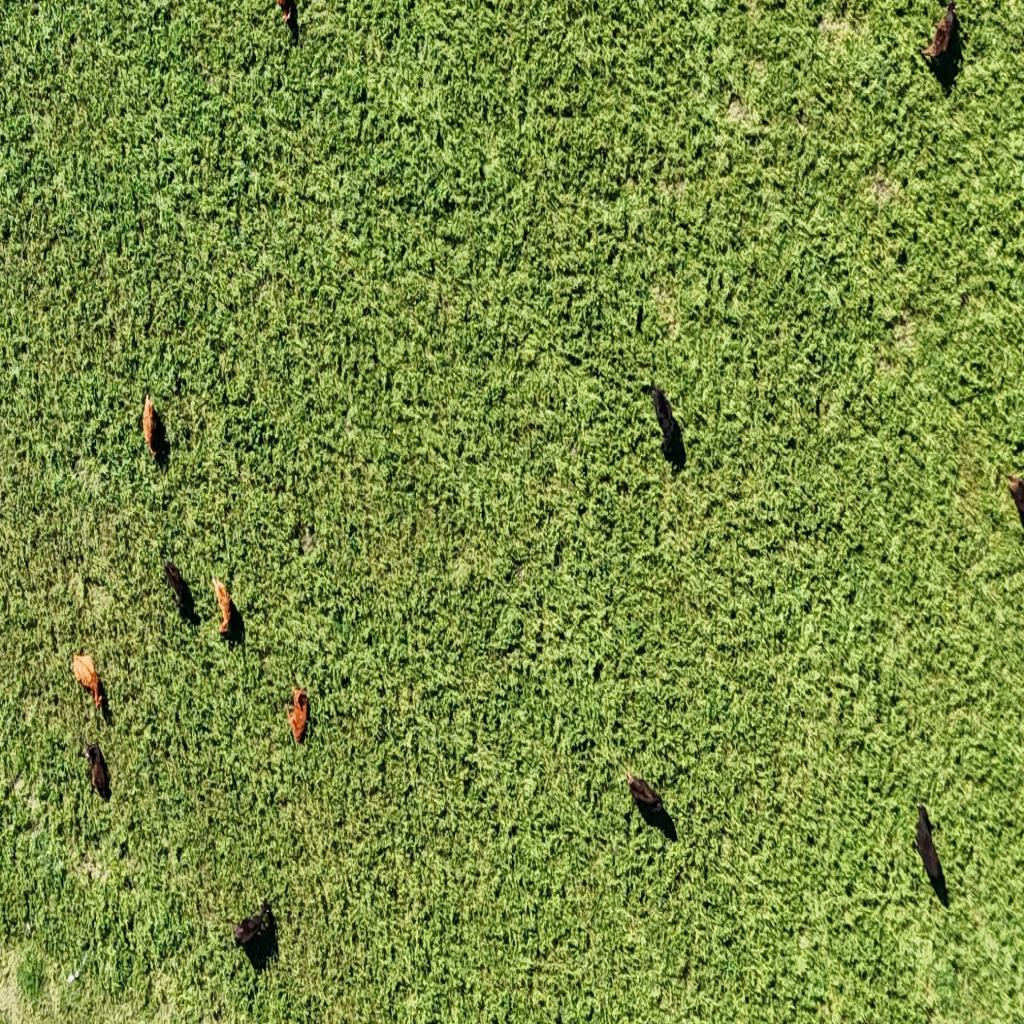cow: (230, 896, 278, 964), (649, 380, 685, 464), (920, 2, 960, 77), (68, 651, 107, 720), (914, 802, 944, 887), (286, 676, 314, 746), (622, 768, 664, 814), (84, 736, 112, 801), (164, 560, 194, 620), (212, 575, 237, 637), (268, 0, 298, 45), (142, 392, 162, 458), (1004, 473, 1024, 534)
